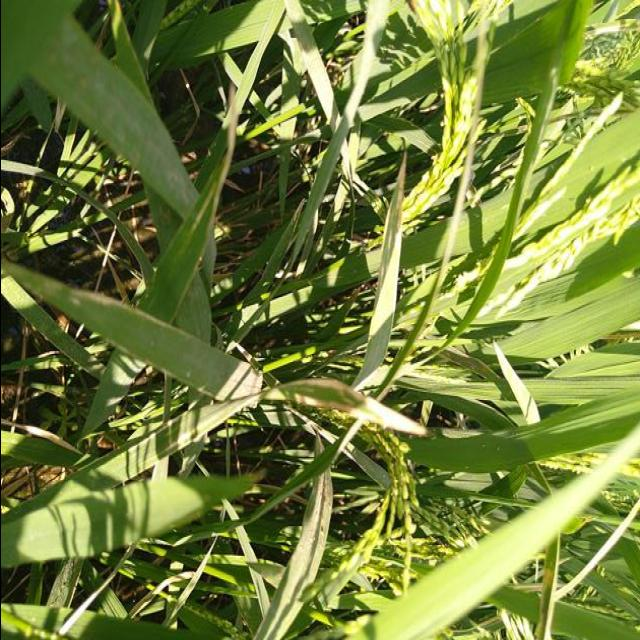Leaf Blight: (126, 378, 425, 472), (183, 81, 237, 262), (60, 285, 190, 336), (376, 151, 405, 297), (532, 532, 559, 640), (440, 348, 499, 381)
Panicle Blight: (407, 0, 421, 15)
